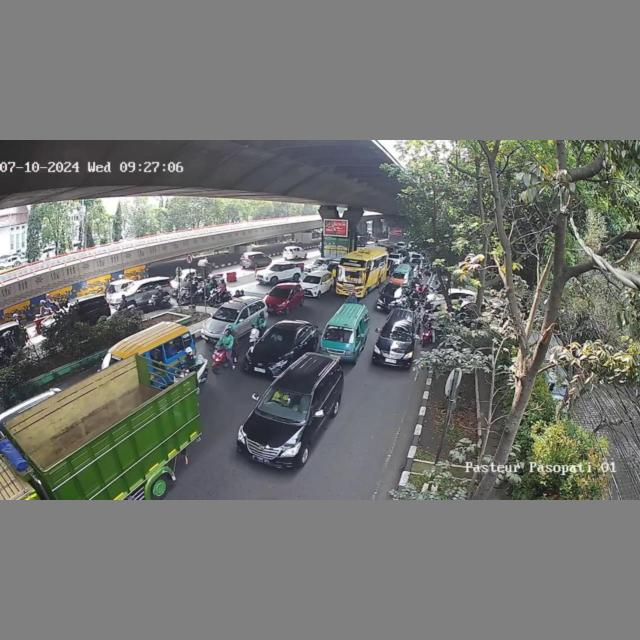windshield: (257, 382, 314, 419), (259, 328, 295, 349), (211, 305, 243, 324), (382, 322, 413, 340), (322, 327, 356, 342), (267, 286, 292, 297), (302, 274, 325, 283)
